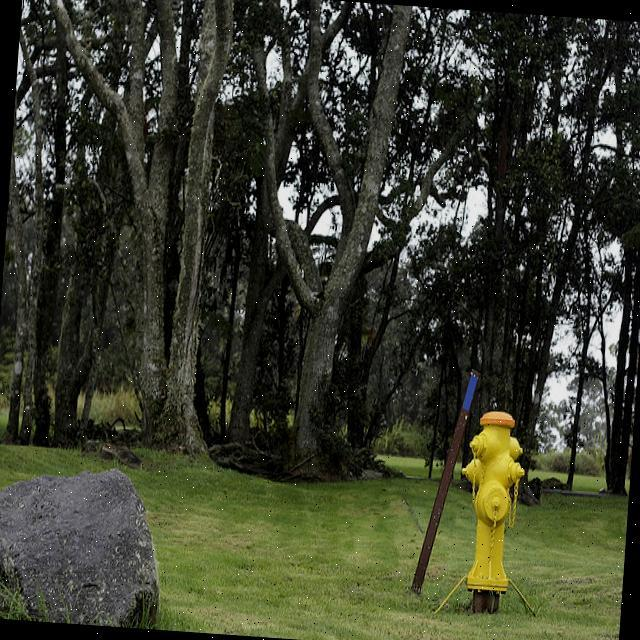fire_hydrant: (433, 406, 550, 620)
